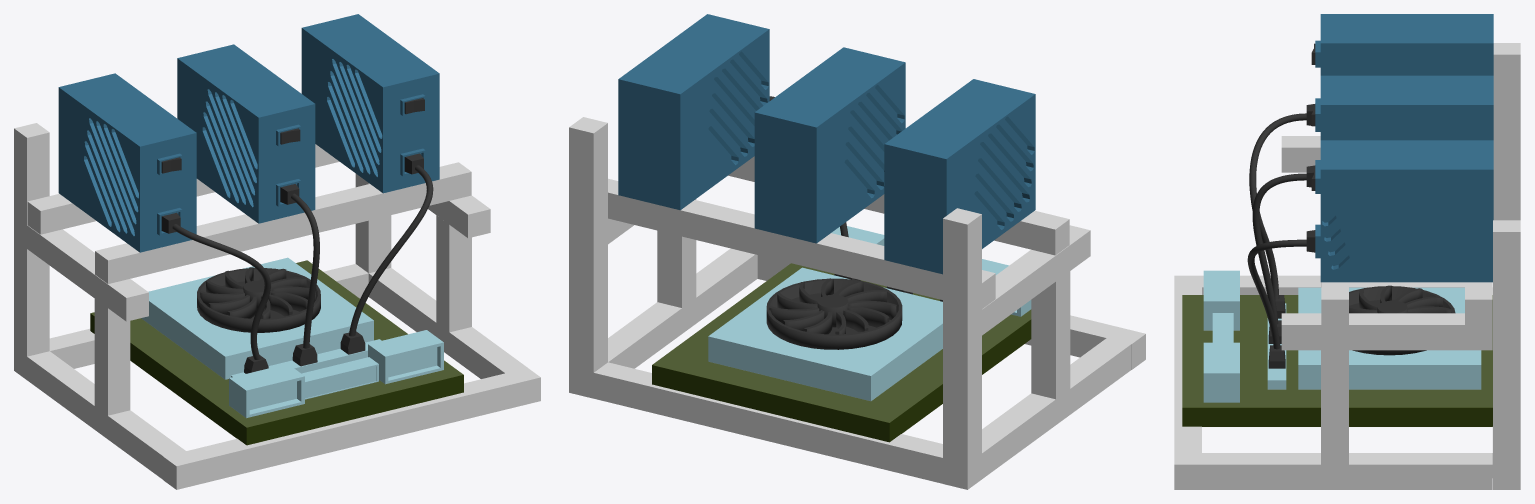
Rendered from cryptofarm_tier5.fbx.
3 renders of one model, left to right at view 1: azimuth 30°, elevation 25°; view 2: azimuth 150°, elevation 25°; view 3: azimuth 270°, elevation 25°, orthographic. The views are drawn at different scales.
Visible parts, largest first — view 1: Cube.012, Cube.018, Cube.010, Cube.014, Cube, Cube.001, Cylinder.001, Cube.002, Cube.003, Cylinder, Cube.004, cable (+3 smaller); view 2: Cube.012, Cube.010, Cube.014, Cube.018, Cube, Cube.001, Cylinder.001, Cylinder; view 3: Cube.012, Cube.010, Cube, Cube.014, Cube.018, Cube.001, Cube.003, Cube.002, Cylinder.001, cable.002, cable.001, cable (+3 smaller).
Part boxes in pixels (x1,y1,x2,y2): Cube.012: [14, 123, 540, 489]; Cube.018: [58, 73, 196, 252]; Cube.010: [301, 14, 439, 193]; Cube.014: [177, 44, 315, 223]; Cube: [90, 260, 463, 445]; Cube.001: [141, 257, 373, 379]; Cylinder.001: [200, 267, 316, 318]; Cube.002: [229, 363, 304, 418]; Cube.003: [368, 330, 443, 384]; Cylinder: [197, 268, 320, 332]; Cube.004: [301, 357, 378, 399]; cable: [349, 165, 433, 336]; Cube.012: [569, 117, 1145, 489]; Cube.010: [618, 14, 769, 210]; Cube.014: [754, 47, 905, 243]; Cube.018: [884, 79, 1035, 274]; Cube: [652, 263, 1031, 442]; Cube.001: [708, 267, 942, 401]; Cylinder.001: [769, 278, 896, 334]; Cylinder: [766, 278, 902, 349]; Cube.012: [1174, 43, 1520, 489]; Cube.010: [1315, 140, 1493, 282]; Cube: [1182, 295, 1492, 426]; Cube.014: [1315, 75, 1493, 166]; Cube.018: [1315, 14, 1493, 131]; Cube.001: [1298, 287, 1481, 389]; Cube.003: [1203, 342, 1239, 402]; Cube.002: [1203, 270, 1239, 330]; Cylinder.001: [1349, 285, 1451, 313]; cable.002: [1249, 113, 1306, 299]; cable.001: [1252, 173, 1306, 324]; cable: [1247, 239, 1306, 349].
Size of the model in its own units: 2.16 by 1.61 by 1.67.
